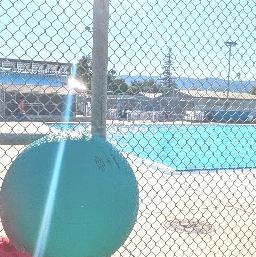algae: (0, 130, 139, 257)
